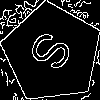S: (27, 28, 83, 80)
